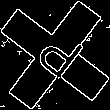P_SW: (25, 24, 85, 86)
